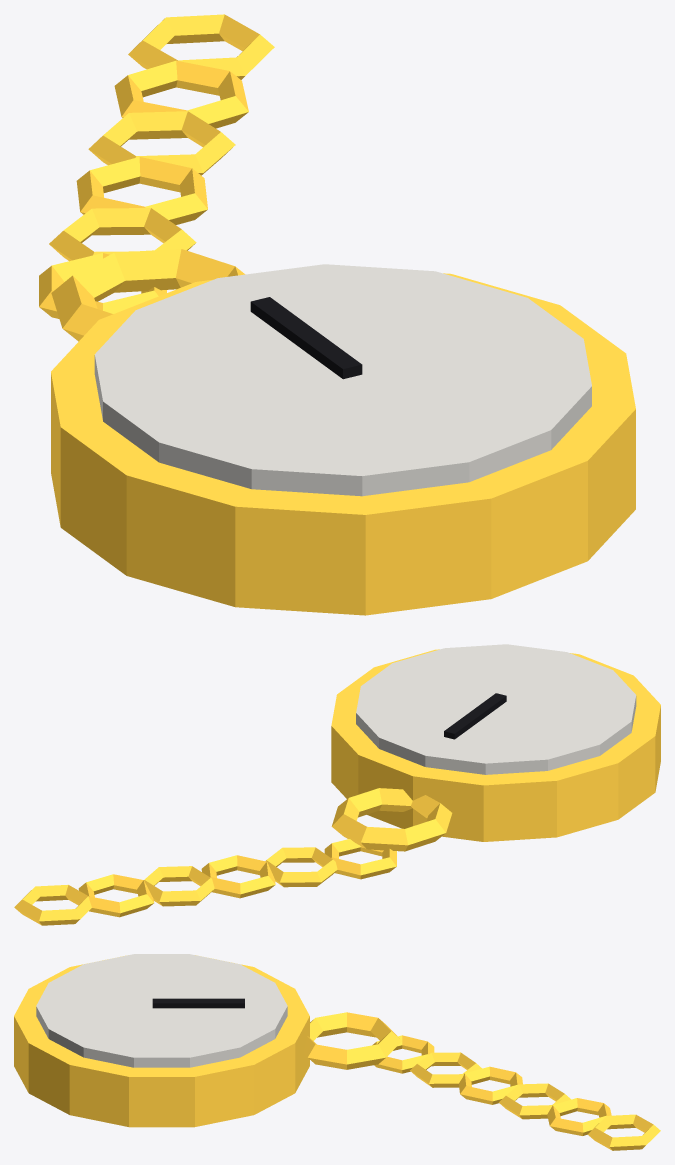
The model's file is pocket_watch.glb.
3 views of the same model, one above another, from view 1: azimuth 30°, elevation 25°; view 2: azimuth 150°, elevation 25°; view 3: azimuth 270°, elevation 25° (orthographic). The views are drawn at different scales.
Visible parts, largest first — view 1: face_white, watch_gold, chain_gold, face_black; view 2: face_white, watch_gold, chain_gold, face_black; view 3: watch_gold, face_white, chain_gold, face_black.
Boxes of the visible parts, x1=… form: face_white: x1=94, y1=264, x2=591, y2=496; watch_gold: x1=51, y1=249, x2=635, y2=615; chain_gold: x1=39, y1=14, x2=274, y2=318; face_black: x1=250, y1=297, x2=362, y2=379; face_white: x1=356, y1=644, x2=636, y2=774; watch_gold: x1=331, y1=649, x2=660, y2=851; chain_gold: x1=14, y1=839, x2=396, y2=925; face_black: x1=444, y1=693, x2=506, y2=739; watch_gold: x1=14, y1=955, x2=401, y2=1127; face_white: x1=36, y1=954, x2=287, y2=1067; chain_gold: x1=372, y1=1035, x2=660, y2=1150; face_black: x1=152, y1=998, x2=244, y2=1008.
Size of the model in its own units: 0.0982 by 0.0195 by 0.1749.
